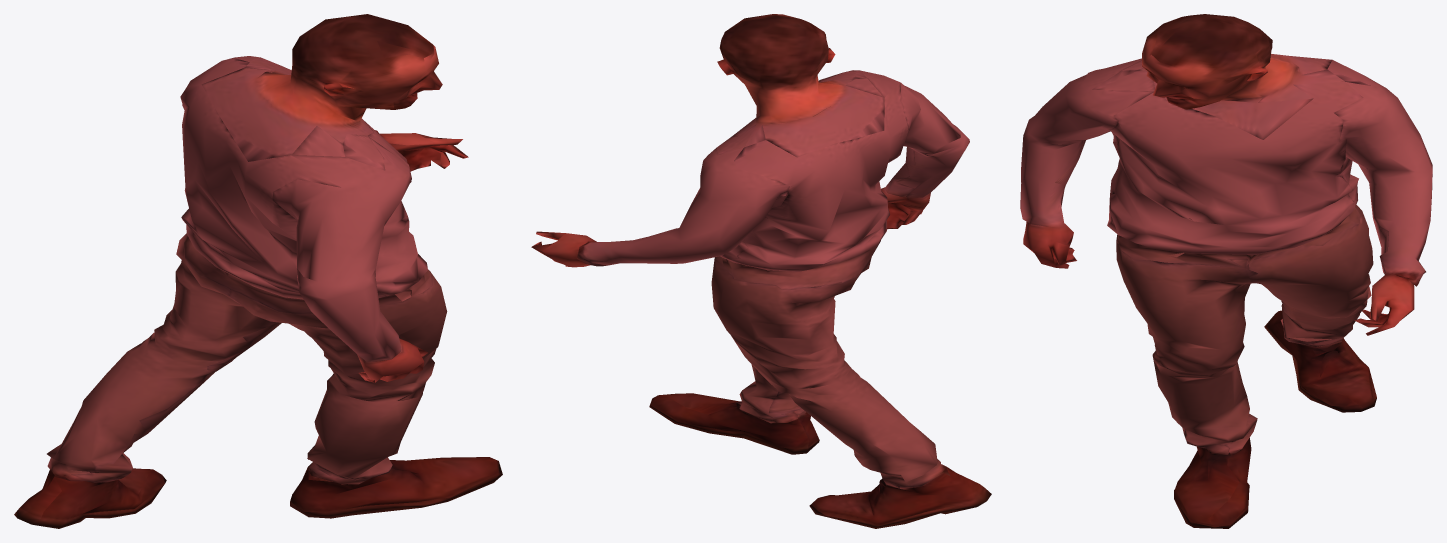
Rendered from car4.gltf.
3 views of the same model, side by side, from view 1: azimuth 30°, elevation 25°; view 2: azimuth 150°, elevation 25°; view 3: azimuth 270°, elevation 25° (orthographic). The views are drawn at different scales.
Visible parts, largest first — view 1: Desirefxme_GTP_CMan_Spg_Mark_20_Wk_Sd_Lsn_Bgr214; view 2: Desirefxme_GTP_CMan_Spg_Mark_20_Wk_Sd_Lsn_Bgr214; view 3: Desirefxme_GTP_CMan_Spg_Mark_20_Wk_Sd_Lsn_Bgr214.
Part boxes in pixels (bbox=[...]): Desirefxme_GTP_CMan_Spg_Mark_20_Wk_Sd_Lsn_Bgr214: bbox=[14, 14, 502, 528]; Desirefxme_GTP_CMan_Spg_Mark_20_Wk_Sd_Lsn_Bgr214: bbox=[531, 14, 991, 528]; Desirefxme_GTP_CMan_Spg_Mark_20_Wk_Sd_Lsn_Bgr214: bbox=[1020, 14, 1432, 528].
Bounding box in the file's own units: 2.27 × 2.12 × 1.77.
1 material, 1 textured.
